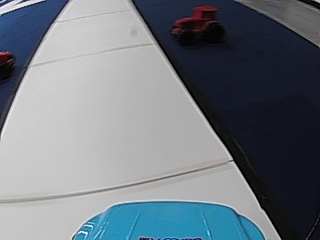tractor: (171, 5, 223, 46)
